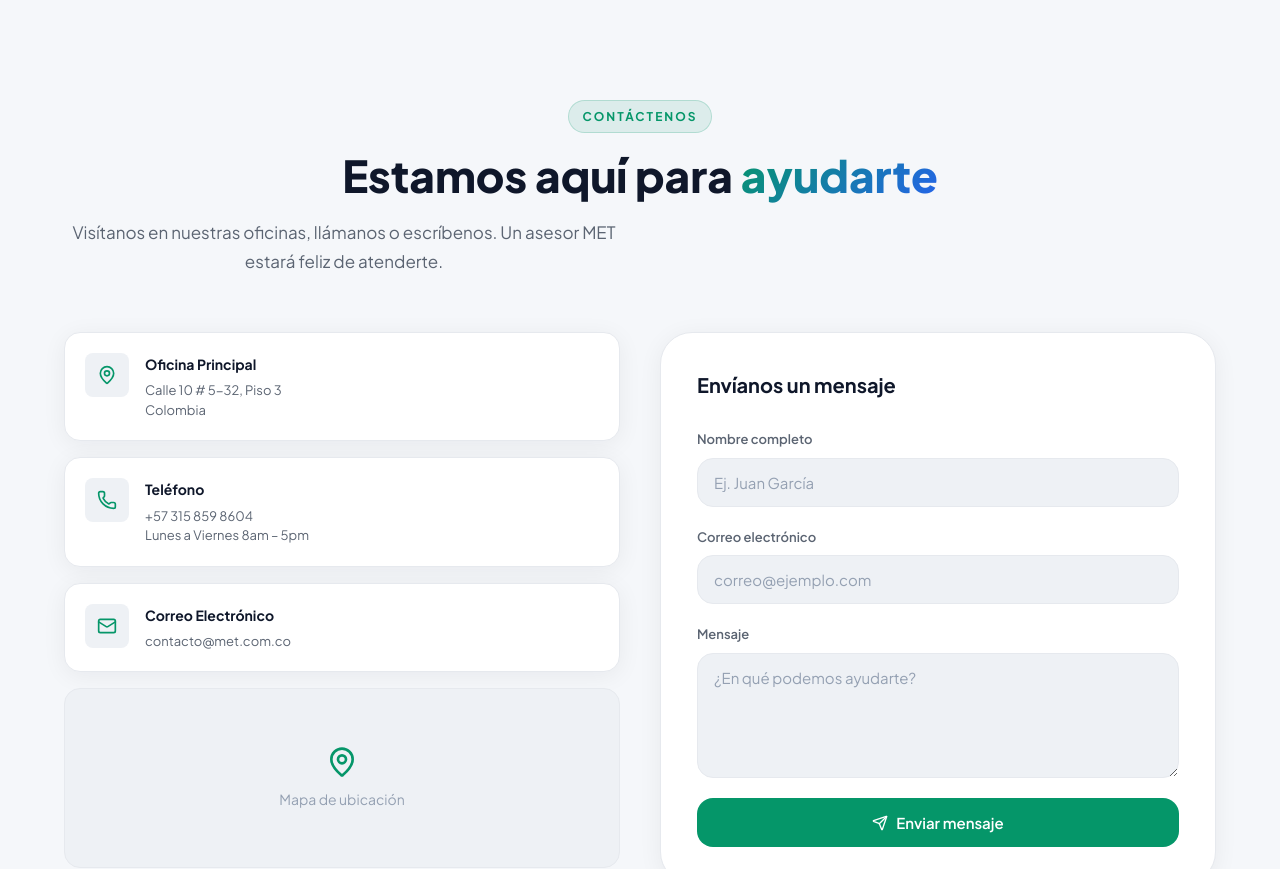
Test: ContactSection › si el envío falla avisa y conserva lo que escribió el visitante
In the field with placeholder "Ej. Juan García": (938, 482) x1=697 y1=458 x2=1179 y2=507, type "Laura Gómez"
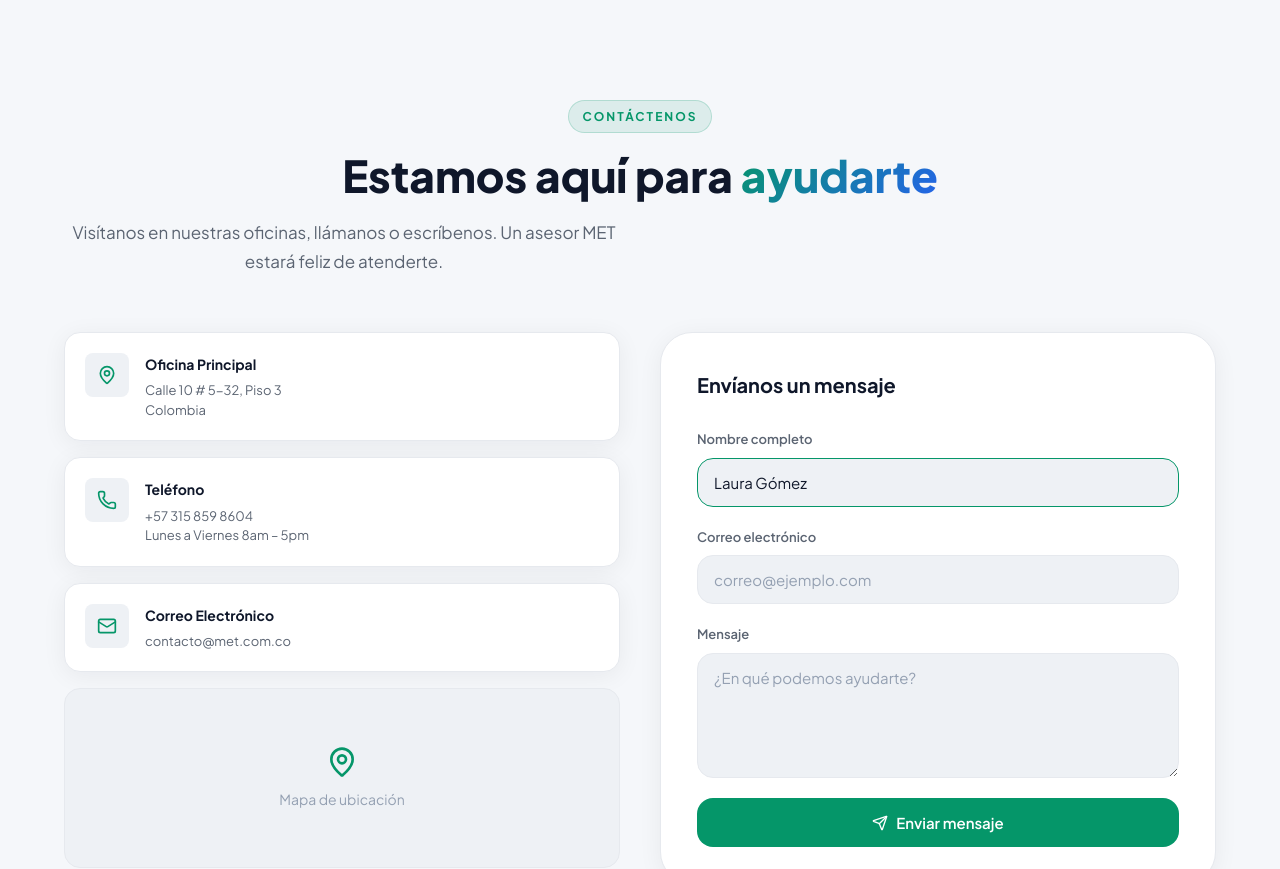
In the field with placeholder "correo@ejemplo.com": (938, 580) x1=697 y1=555 x2=1179 y2=604, type "laura@example.com"
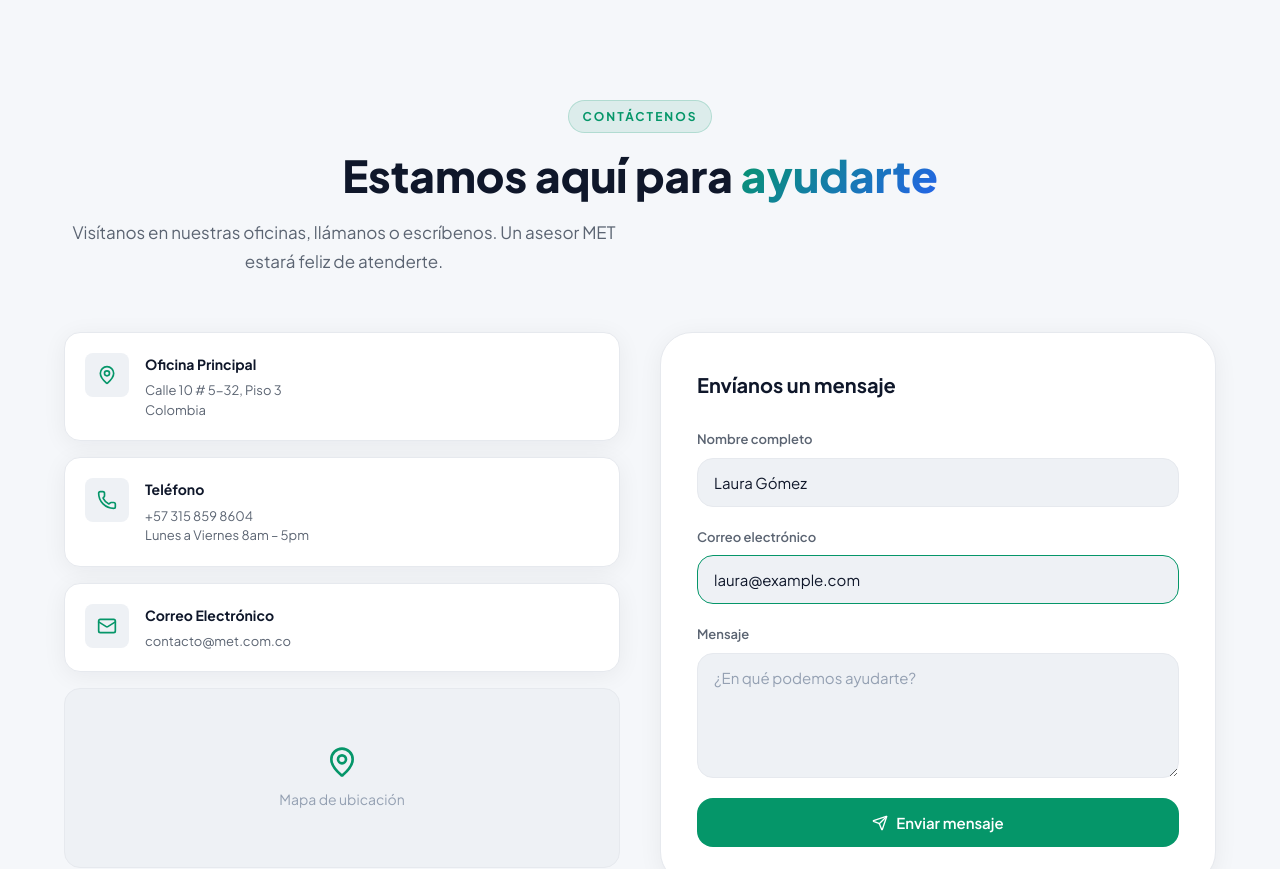
In the text box with placeholder "¿En qué podemos ayudarte?": (938, 716) x1=697 y1=653 x2=1179 y2=778, type "Quiero abrir una cuenta"
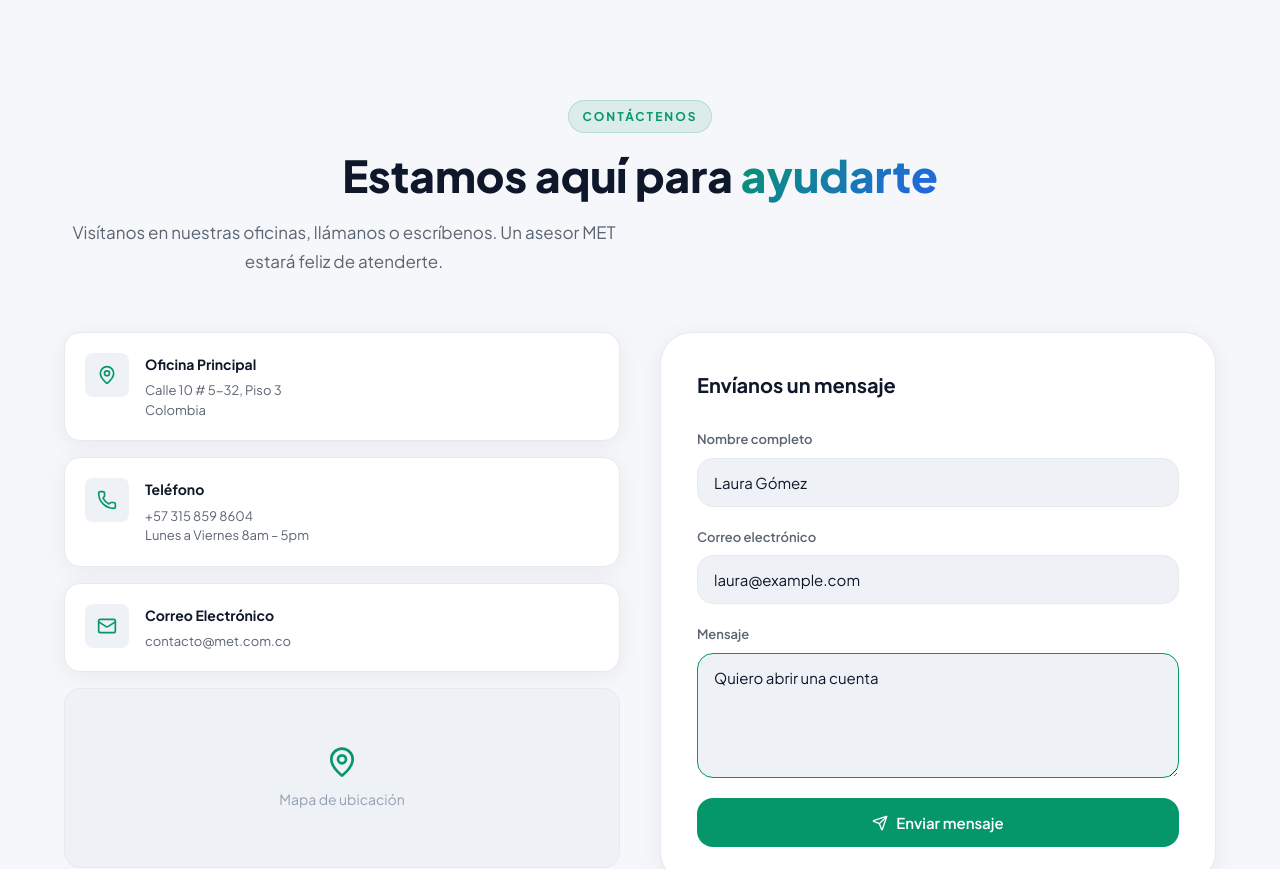
Click the button "Enviar mensaje": click(938, 823) x1=697 y1=798 x2=1179 y2=847
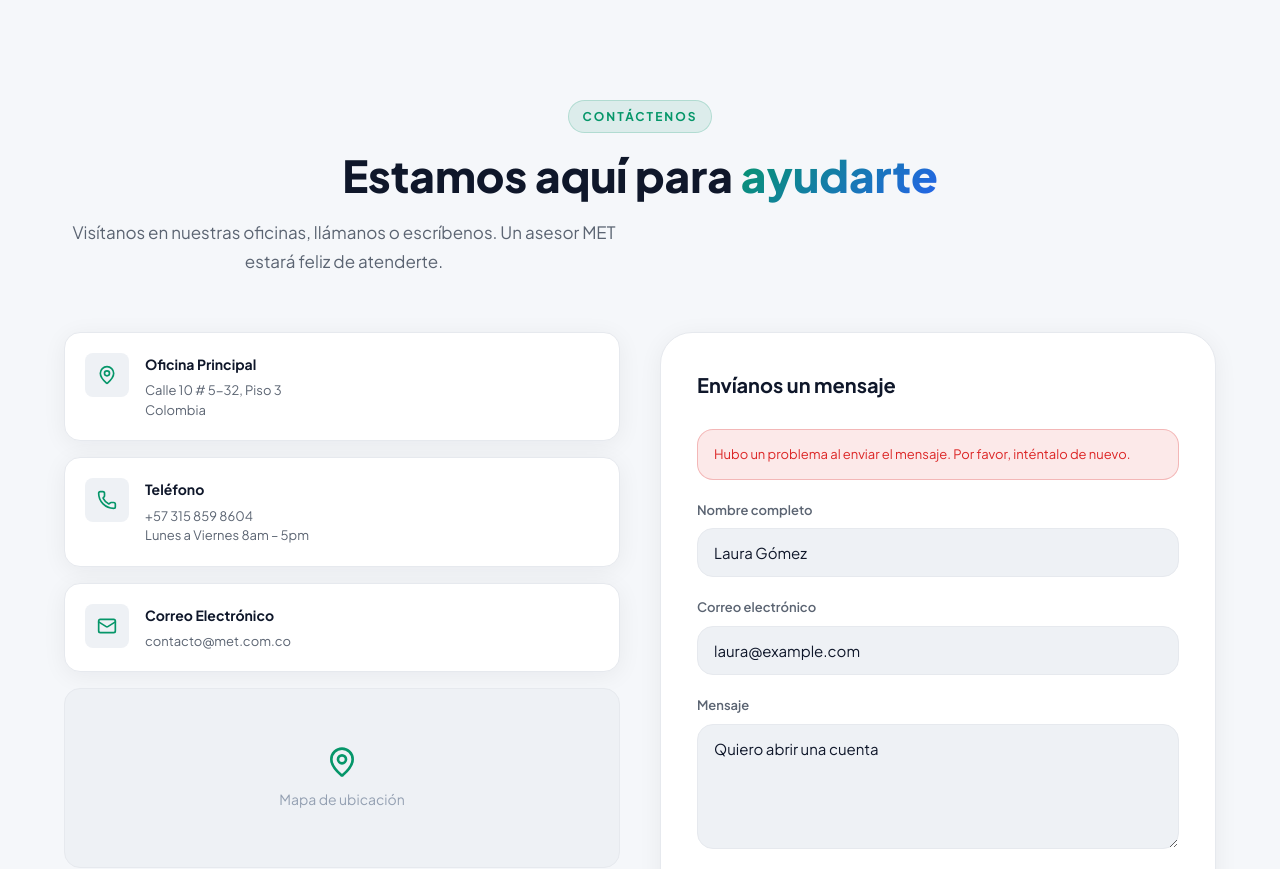
Check: the text "Hubo un problema al enviar el mensaje" is shown, box x1=714 y1=446 x2=1130 y2=462
